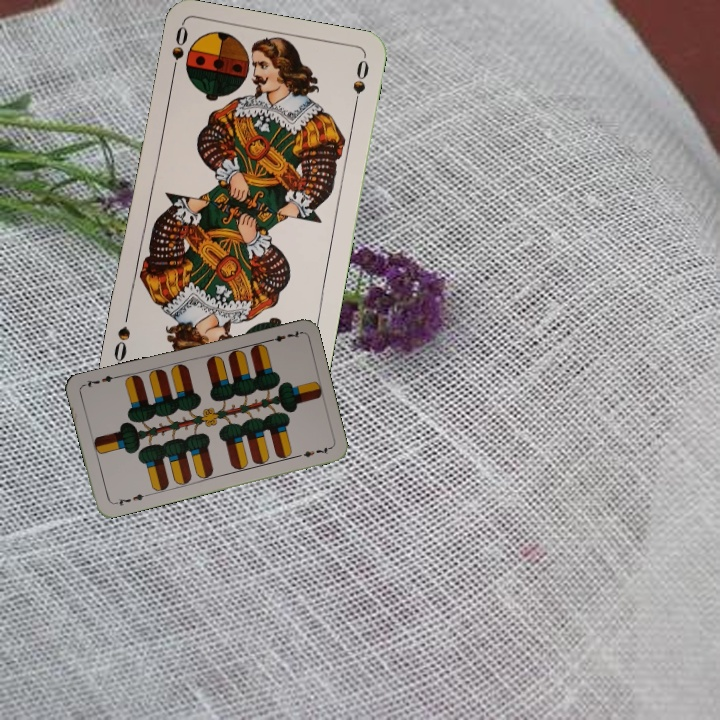E7: (109, 489, 149, 508), (263, 327, 303, 345)
SO: (167, 22, 190, 81)
